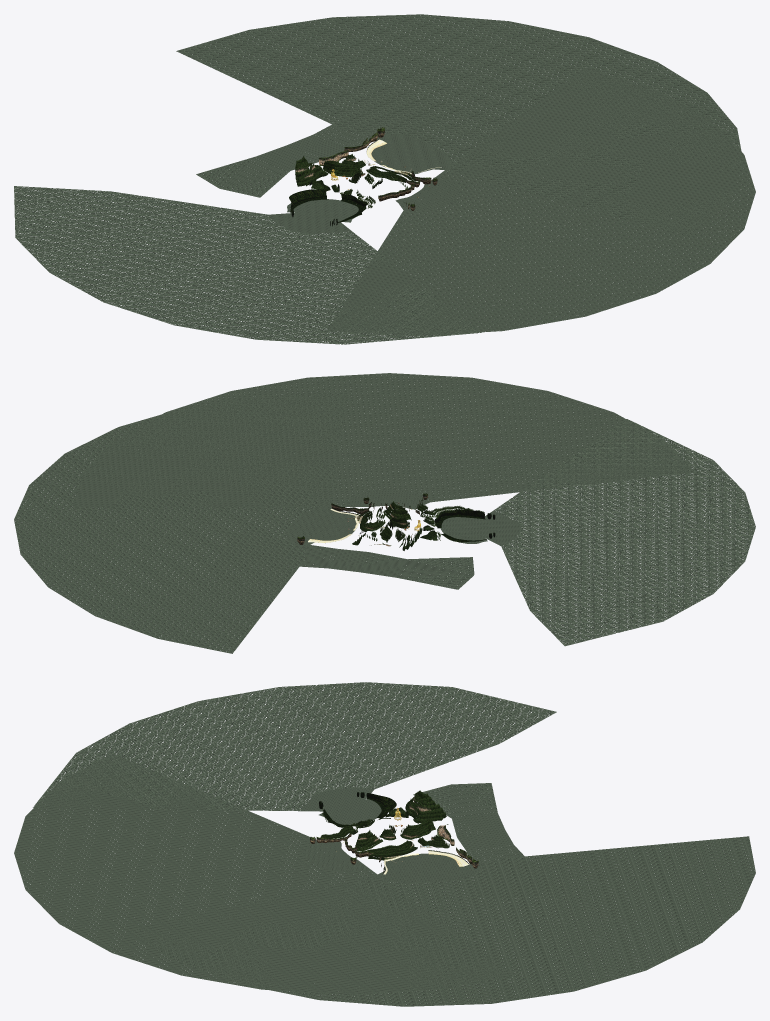
The model's file is track-AS_C3_V2_env.glb.
The picture shows the model from 3 angles, top to bottom: view 1: azimuth 30°, elevation 25°; view 2: azimuth 150°, elevation 25°; view 3: azimuth 270°, elevation 25°; orthographic projection. The views are drawn at different scales.
Visible parts, largest first — view 1: AS_C3_V2_env; view 2: AS_C3_V2_env; view 3: AS_C3_V2_env.
Boxes of the visible parts, <box> form: AS_C3_V2_env: <box>14,14,755,344</box>; AS_C3_V2_env: <box>14,373,755,653</box>; AS_C3_V2_env: <box>14,682,755,1006</box>.
Bounding box in the file's own units: 14932 × 654 × 14423.
Materials: 46 (46 with a texture image).
